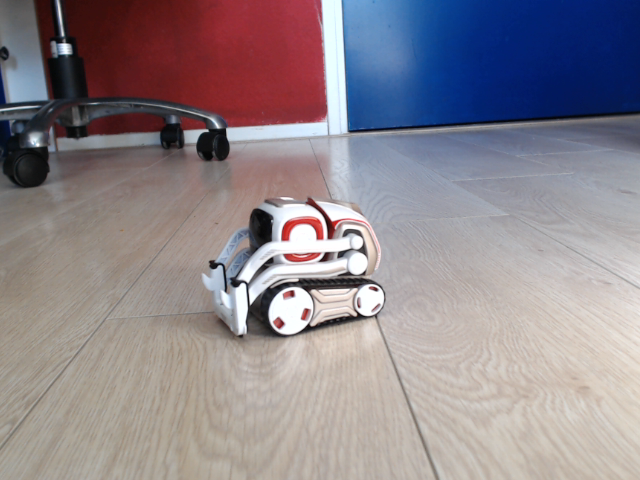cozmo: (199, 195, 387, 339)
